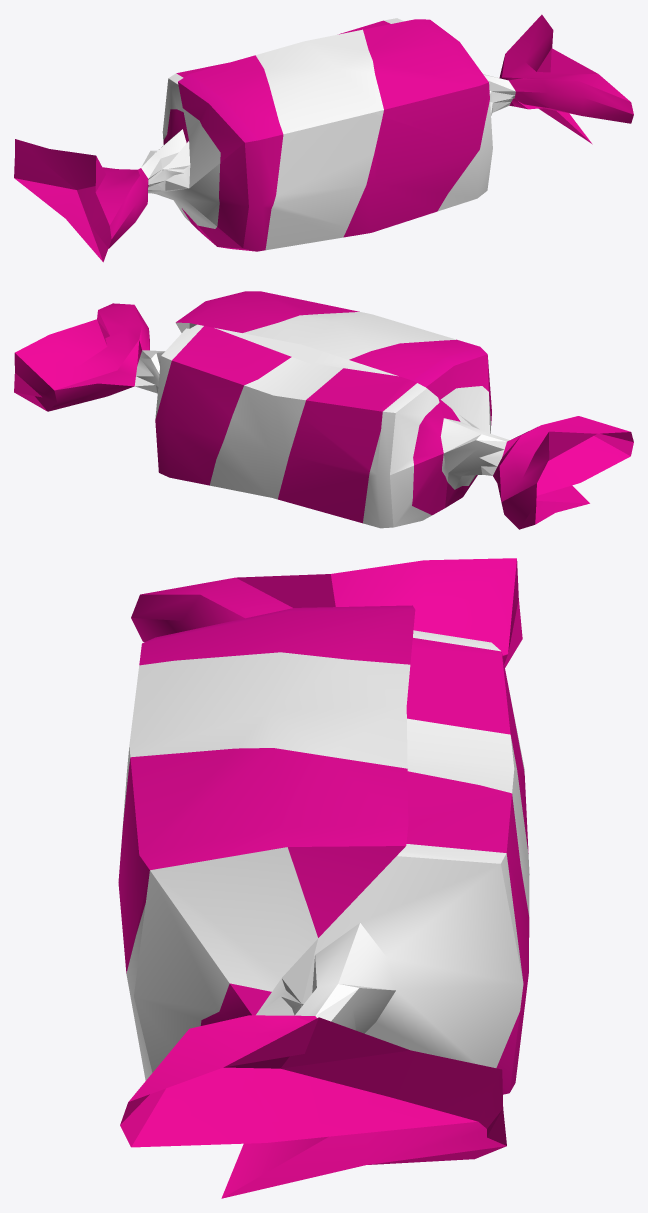
The model's file is Candy_3.fbx.
The picture shows the model from 3 angles, top to bottom: view 1: azimuth 30°, elevation 25°; view 2: azimuth 150°, elevation 25°; view 3: azimuth 270°, elevation 25°; orthographic projection. The views are drawn at different scales.
Visible parts, largest first — view 1: Candy_3; view 2: Candy_3; view 3: Candy_3.
Boxes of the visible parts, x1,y1,x2,y2 form: Candy_3: (14, 14, 633, 262); Candy_3: (14, 291, 633, 529); Candy_3: (118, 558, 529, 1198).
Size of the model in its own units: 533 by 153 by 181.
